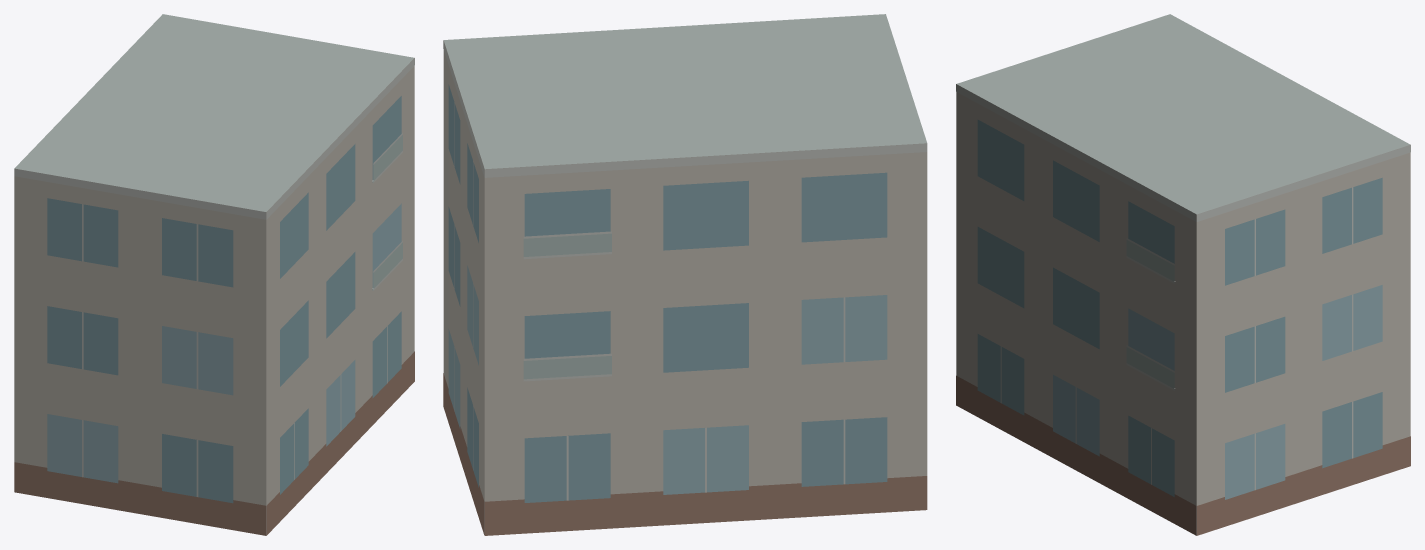
Rendered from survey-upis-32803976.glb.
The picture shows the model from 3 angles, left to right: view 1: azimuth 30°, elevation 25°; view 2: azimuth 150°, elevation 25°; view 3: azimuth 270°, elevation 25°; orthographic projection. The views are drawn at different scales.
Visible parts, largest first — view 1: survey-upis-32803976.tmp; view 2: survey-upis-32803976.tmp; view 3: survey-upis-32803976.tmp.
Boxes of the visible parts, x1=… form: survey-upis-32803976.tmp: x1=14, y1=14, x2=414, y2=535; survey-upis-32803976.tmp: x1=443, y1=14, x2=927, y2=535; survey-upis-32803976.tmp: x1=956, y1=14, x2=1410, y2=535.
Bounding box in the file's own units: 13.65 × 10.2 × 13.08.
